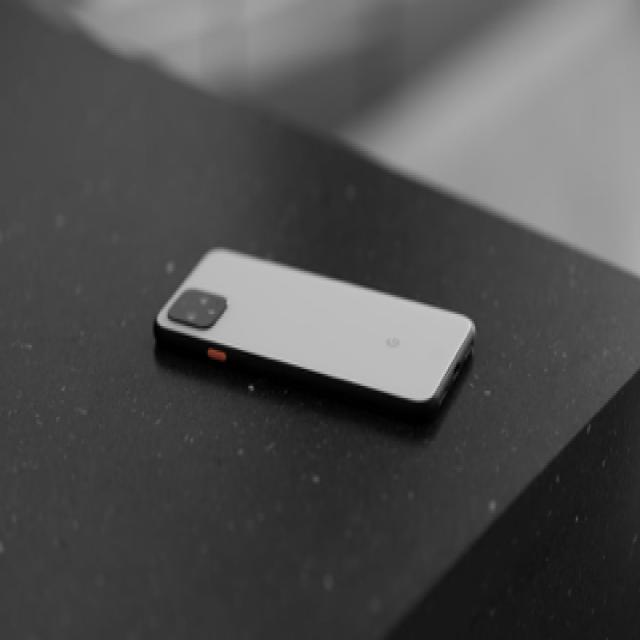cellphone: (152, 245, 477, 414)
